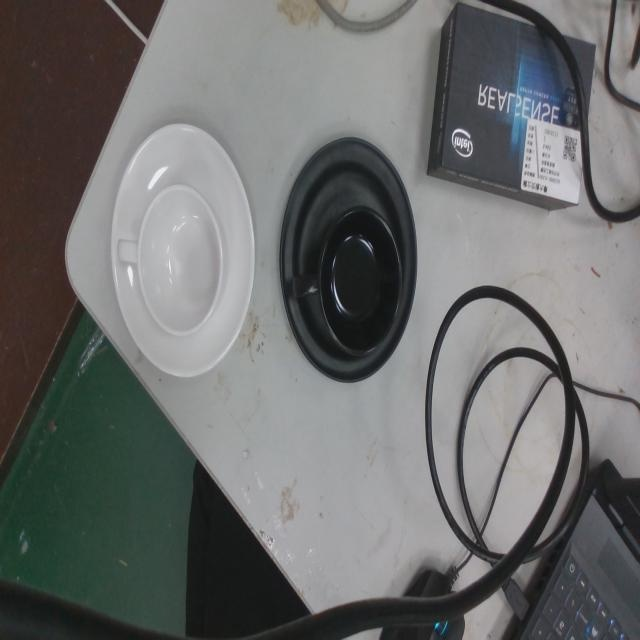black: (277, 133, 421, 389)
white: (108, 116, 258, 384)
